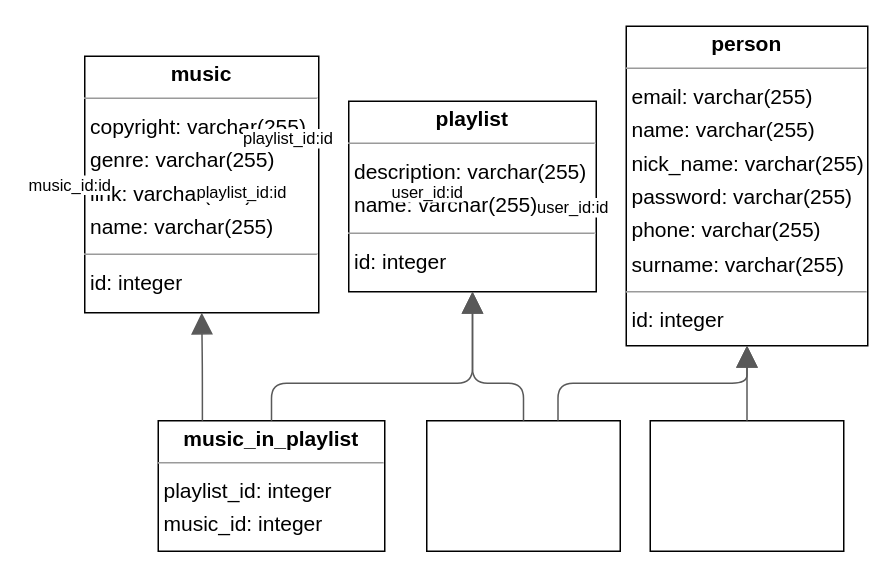
This 894x578 diagram has some shape labels left out. The shapes that lost their labels are listed below. From the top down, each one's box as (x1, y1, x2, y2) in pixels, then its label:
(425, 419, 620, 551): user_playlist playlist_id: integer user_id: integer
(649, 419, 844, 551): user_role user_id: integer roles: varchar(255)
